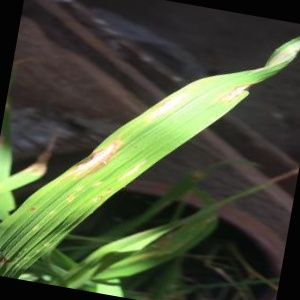Brown_Spot: (55, 122, 122, 180), (205, 72, 259, 112)
